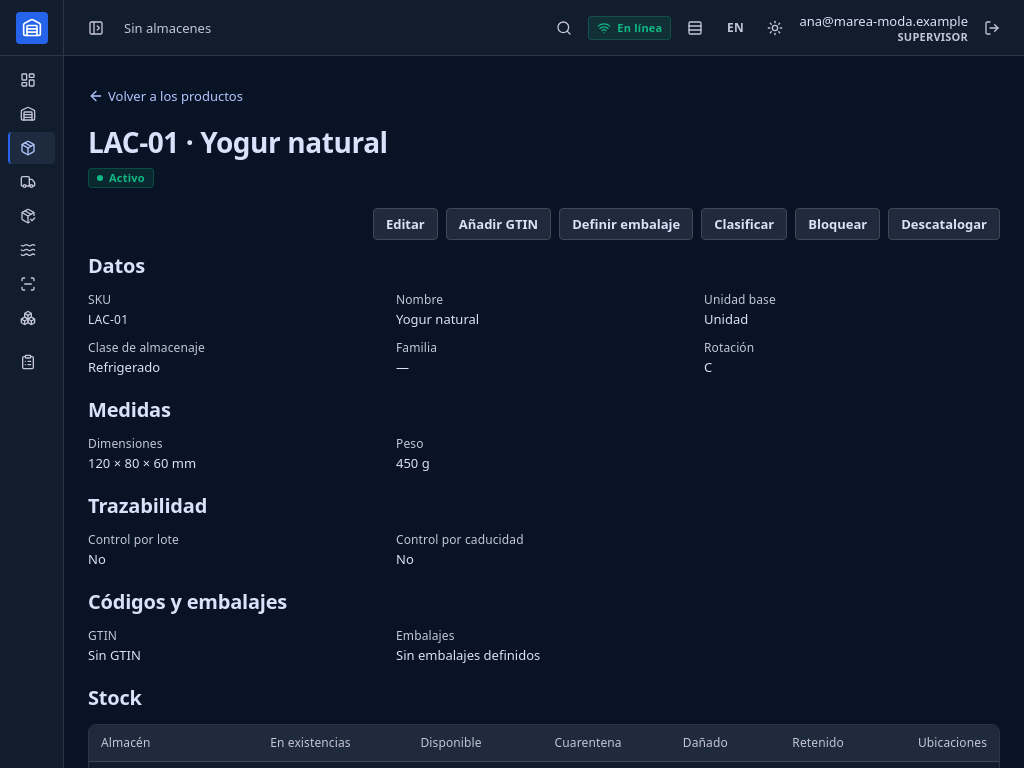
Test: changing a product › does not ask the API when nothing changed
This screenshot has width=1024, height=768.
Click the button "Editar" at (405, 224), box [373,208,438,240]
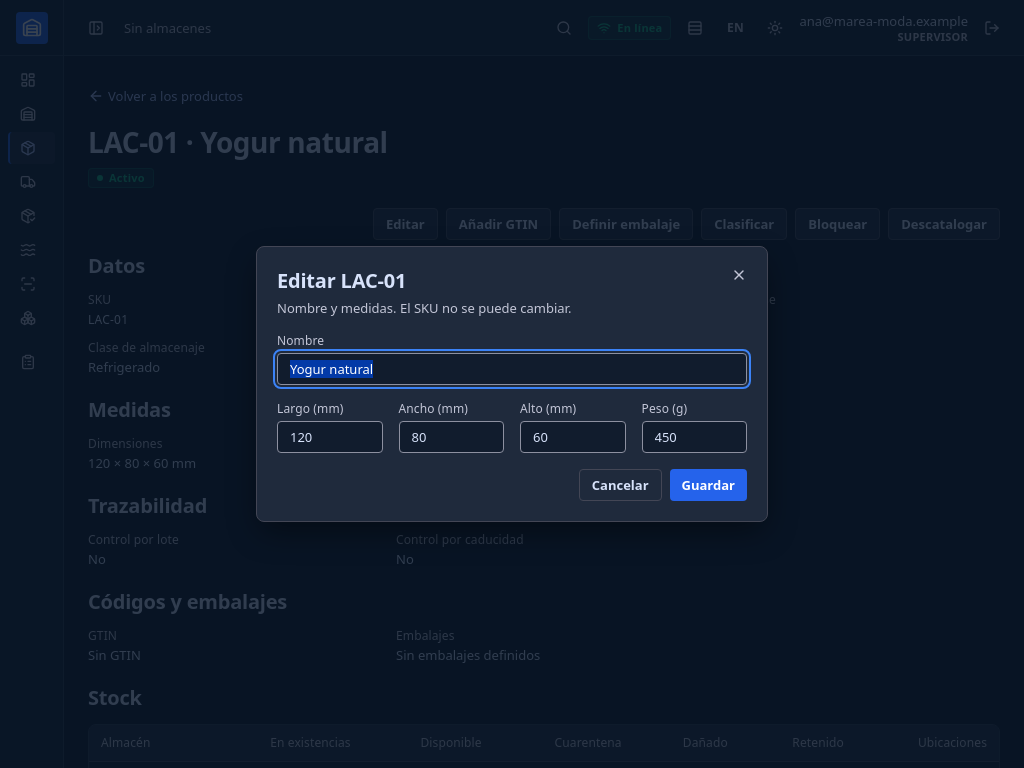
Click the button "Guardar" at (708, 485), box [670,469,747,501]
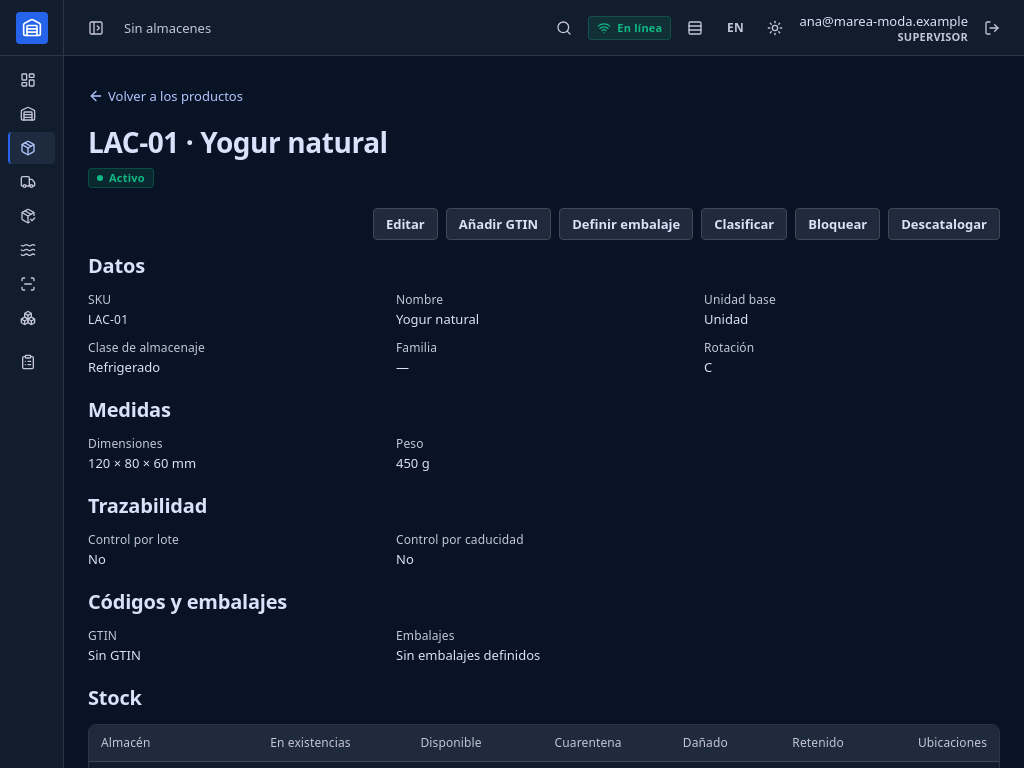
Expected: the dialog is gone
